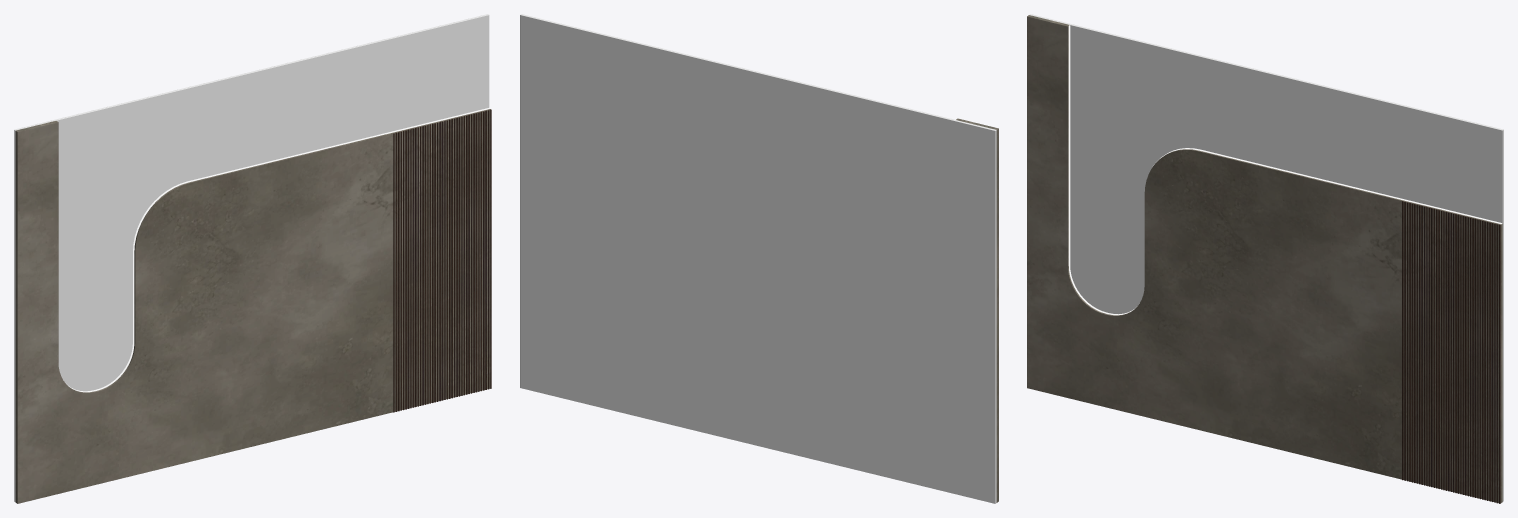
The model's file is pared.glb.
3 views of the same model, side by side, from view 1: azimuth 30°, elevation 25°; view 2: azimuth 150°, elevation 25°; view 3: azimuth 330°, elevation 25° (orthographic).
Parts seen in each view (by area): view 1: panel-parts2h.001, panel-parts2h, panel-parts2h.003, panel-parts2h.002; view 2: panel-parts2h, panel-parts2h.001; view 3: panel-parts2h.001, panel-parts2h, panel-parts2h.003, panel-parts2h.002.
Boxes of the visible parts, x1,y1,x2,y2 form: panel-parts2h.001: [15, 109, 490, 503]; panel-parts2h: [14, 14, 489, 502]; panel-parts2h.003: [393, 109, 491, 412]; panel-parts2h.002: [57, 107, 490, 392]; panel-parts2h: [520, 14, 996, 503]; panel-parts2h.001: [956, 118, 998, 502]; panel-parts2h.001: [1027, 15, 1502, 503]; panel-parts2h: [1029, 14, 1503, 501]; panel-parts2h.003: [1402, 201, 1500, 503]; panel-parts2h.002: [1068, 25, 1502, 315].
Size of the model in its own units: 4 by 3 by 0.0562.
4 materials, 2 textured.
